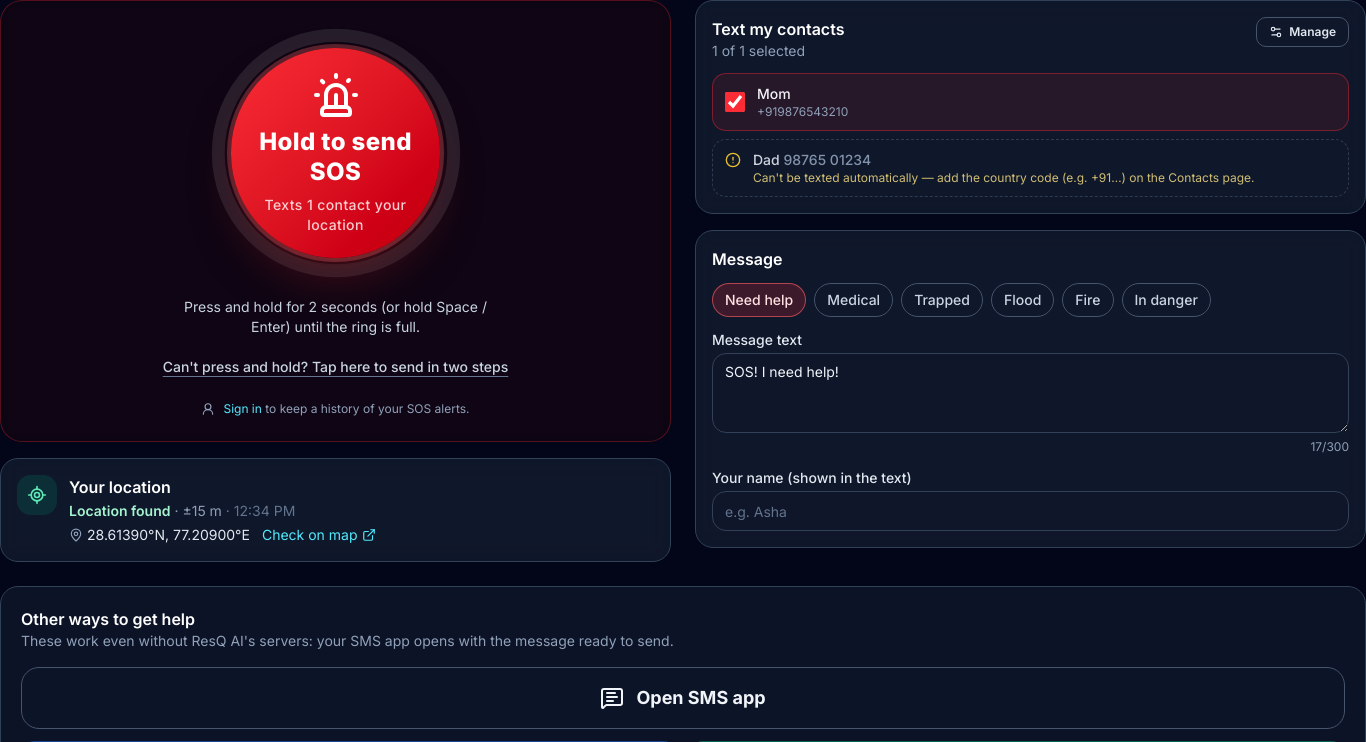
Test: SOSView › falls back to the phone's SMS app with a locally built message when the request fails
The width and height of the screenshot is (1366, 742).
Expected: the text "Location found" is shown, [69,502,170,519]
Click the button "Can't press and hold? Tap here to send in two steps" at (336, 367), box [155,353,516,381]
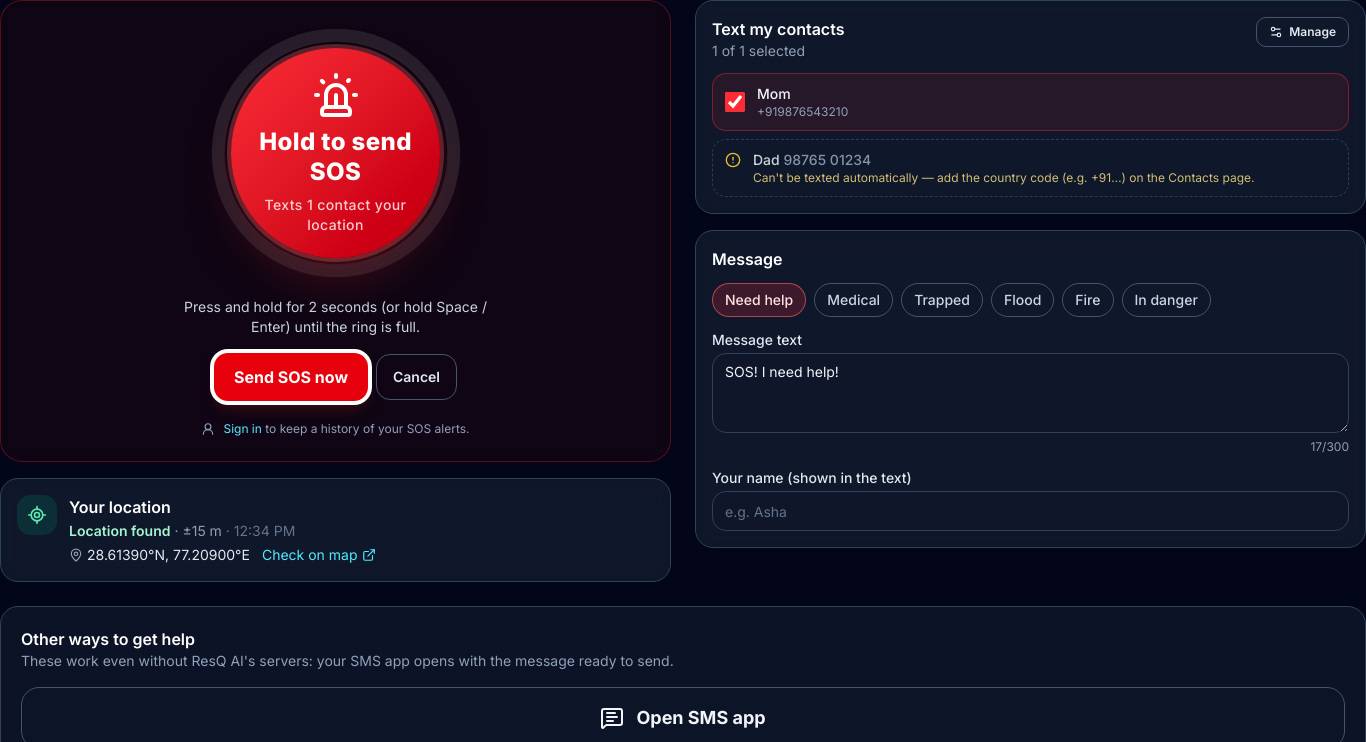
Click the button "Send SOS now" at (291, 377), box [214,353,368,401]
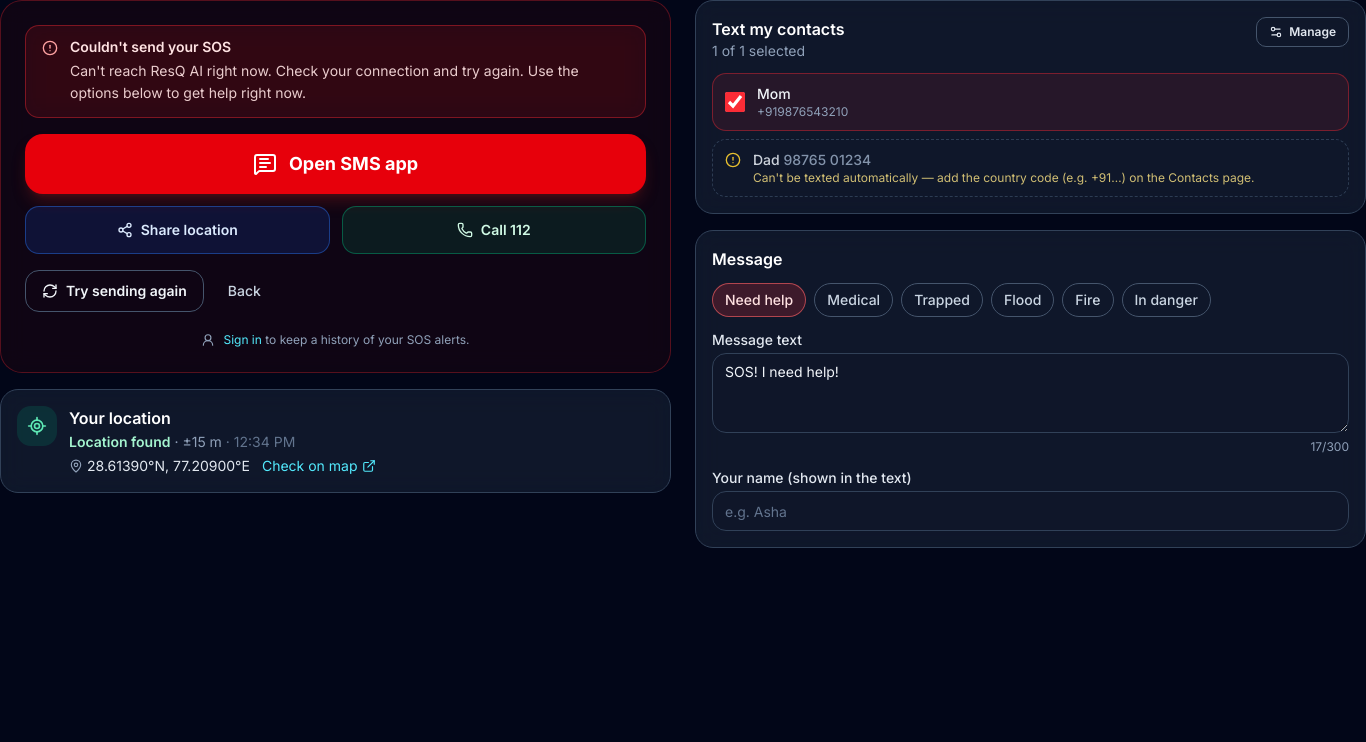
Now the text "Couldn't send your SOS" is shown, box [70,38,231,55]
Click the button "Try sending again" at (114, 291), box [25,270,204,312]
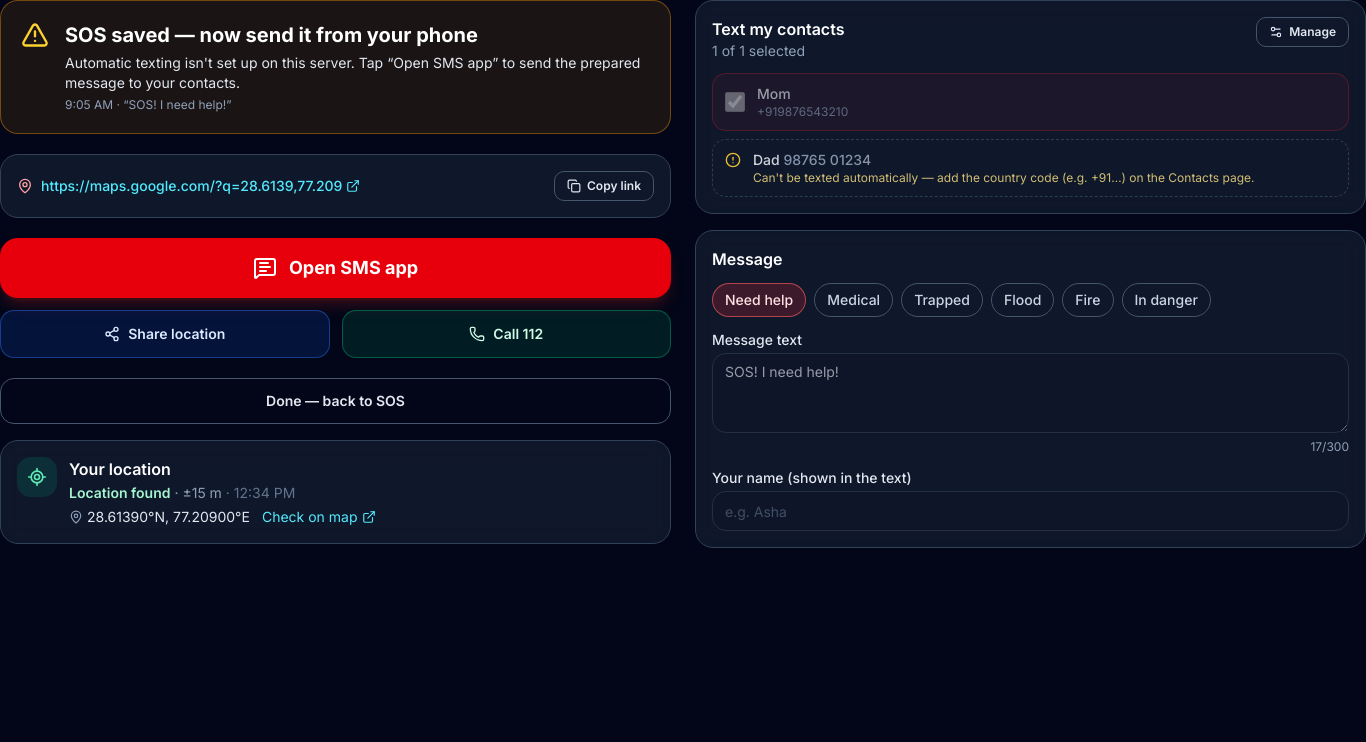
Now the heading "SOS saved — now send it from your phone" is shown, box [65,23,478,47]
